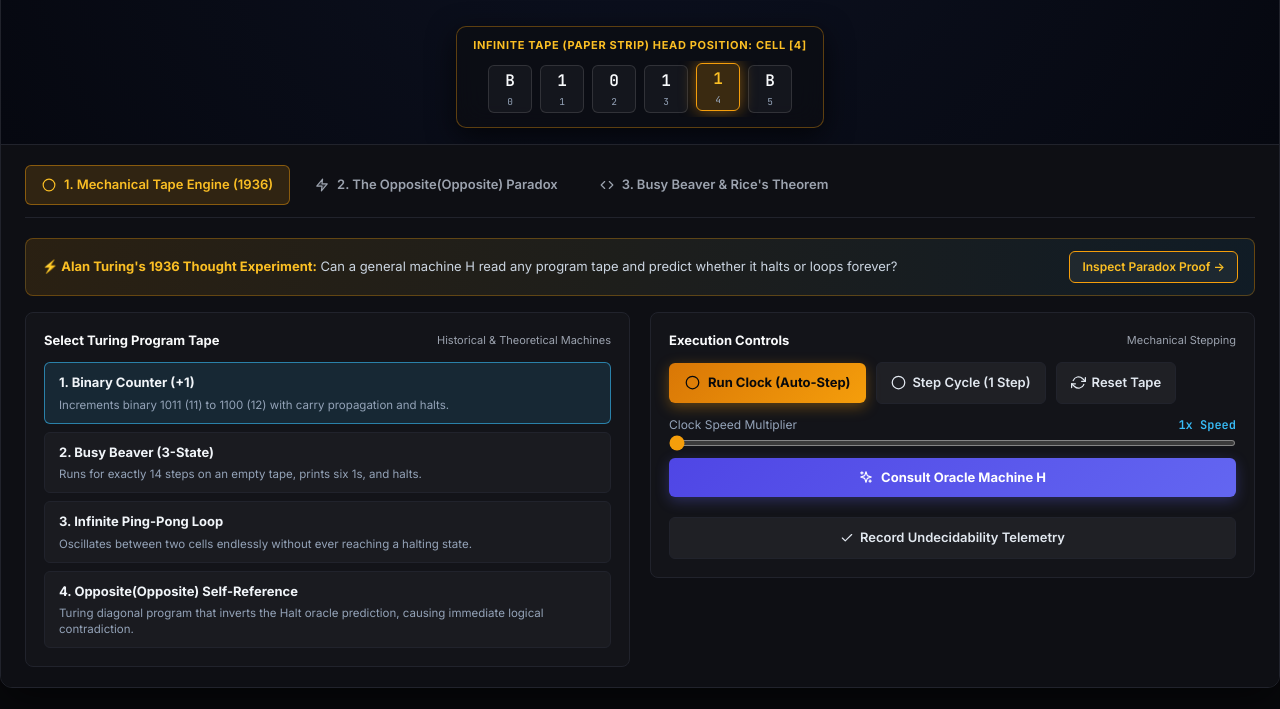
Test: HaltingProblem3DLab › steps through the tape execution in Mode 1
The width and height of the screenshot is (1280, 709).
(page scrolled)
// Step cycle
Click the button "Step Cycle (1 Step)" at (961, 383), box [876,362,1046,404]
(page scrolled)
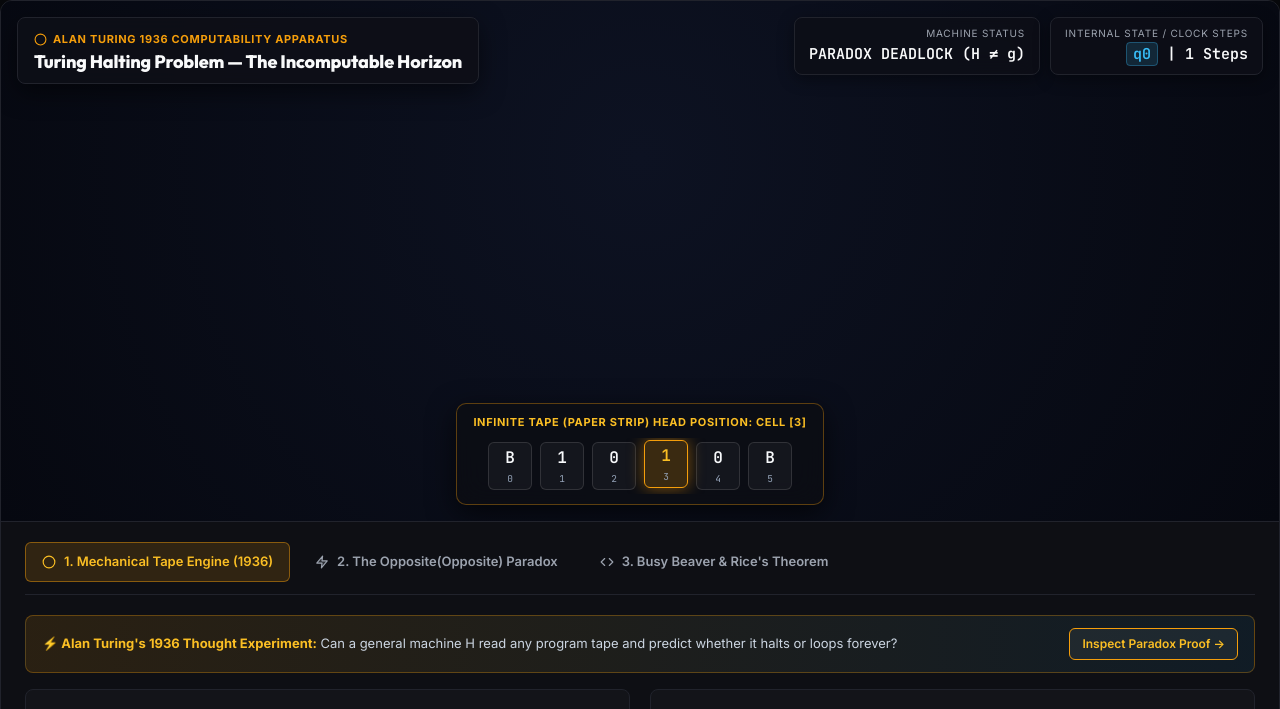
expect the text "q0 | 1 Steps" is shown: met, box [1126,43,1248,66]
